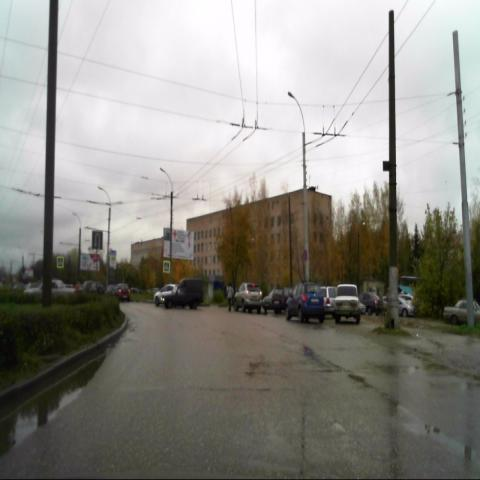6_3_1: (91, 231, 103, 253)
